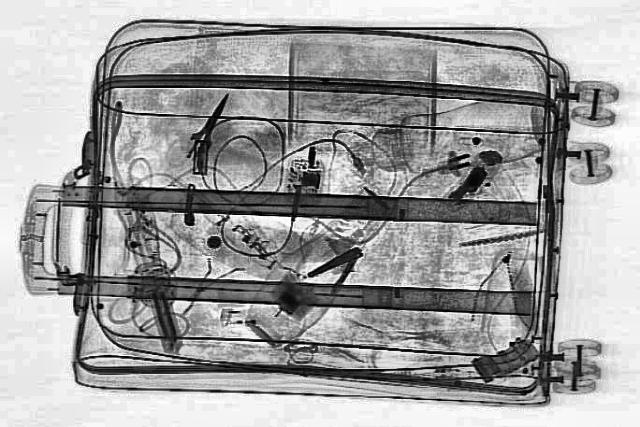Knife: (178, 90, 238, 162)
